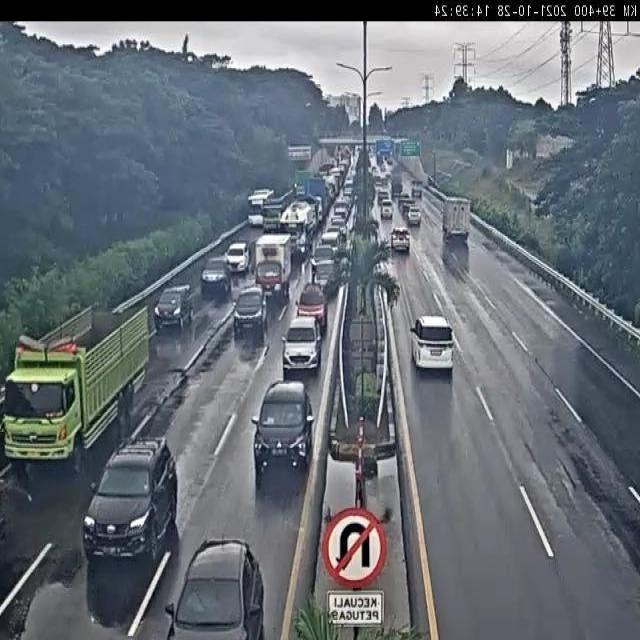Bus: (247, 188, 274, 227)
Car: (84, 434, 178, 563), (168, 540, 265, 636), (251, 380, 316, 486), (281, 312, 324, 376), (410, 315, 454, 371), (154, 284, 193, 332), (233, 287, 267, 342), (297, 286, 328, 334), (200, 258, 230, 297), (314, 258, 340, 298), (310, 246, 336, 273), (225, 242, 249, 271), (390, 228, 410, 252), (331, 218, 348, 240), (320, 230, 338, 248), (325, 224, 342, 238), (403, 198, 416, 215), (398, 190, 409, 210), (411, 208, 422, 224), (378, 188, 388, 204), (375, 182, 382, 194), (329, 214, 342, 219)
Truck: (3, 303, 150, 474), (254, 232, 294, 301), (275, 200, 316, 258), (442, 196, 470, 243), (262, 191, 294, 232), (303, 176, 328, 225), (292, 168, 314, 200), (391, 176, 402, 196), (411, 180, 423, 198)
Van: (381, 198, 393, 220)
